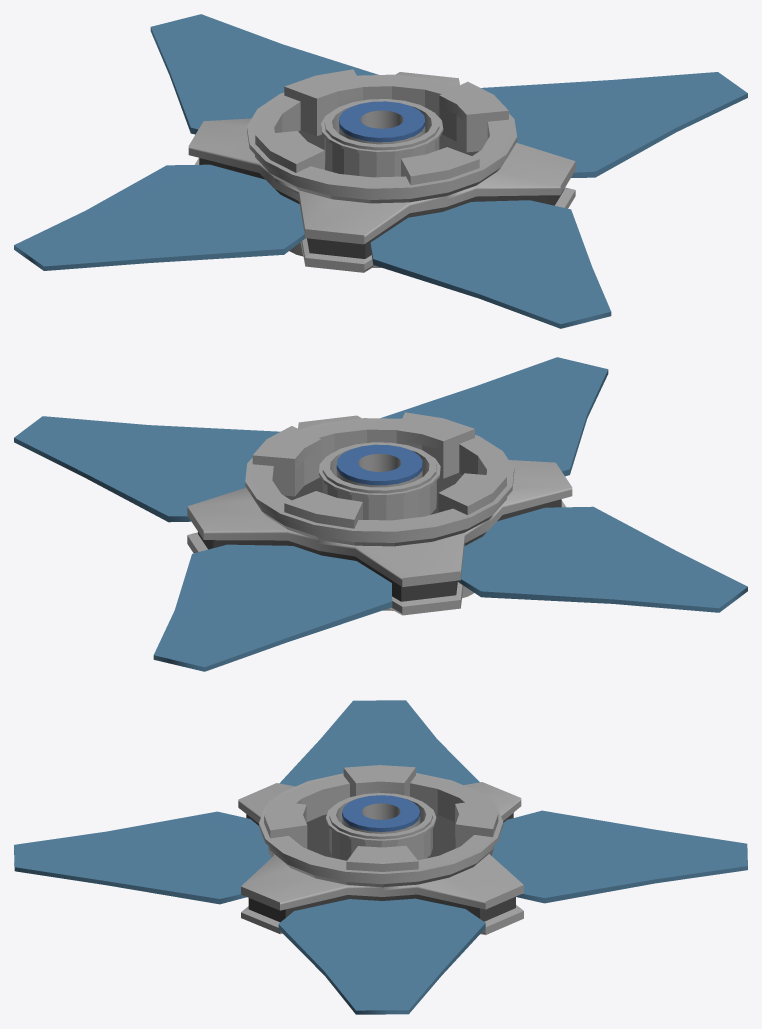
The model's file is Fan new.fbx.
3 renders of one model, top to bottom at view 1: azimuth 30°, elevation 25°; view 2: azimuth 150°, elevation 25°; view 3: azimuth 270°, elevation 25°, orthographic. The views are drawn at different scales.
Visible parts, largest first — view 1: Fan_blades_new, Fan_center_new; view 2: Fan_blades_new, Fan_center_new; view 3: Fan_blades_new, Fan_center_new.
Part boxes in pixels (x1,y1,x2,y2): Fan_blades_new: (14,14,747,328); Fan_center_new: (188,69,575,272); Fan_blades_new: (14,357,747,671); Fan_center_new: (187,412,572,615); Fan_blades_new: (14,700,747,1014); Fan_center_new: (238,765,523,935).
Size of the model in its own units: 24.44 by 3.1 by 24.44.
